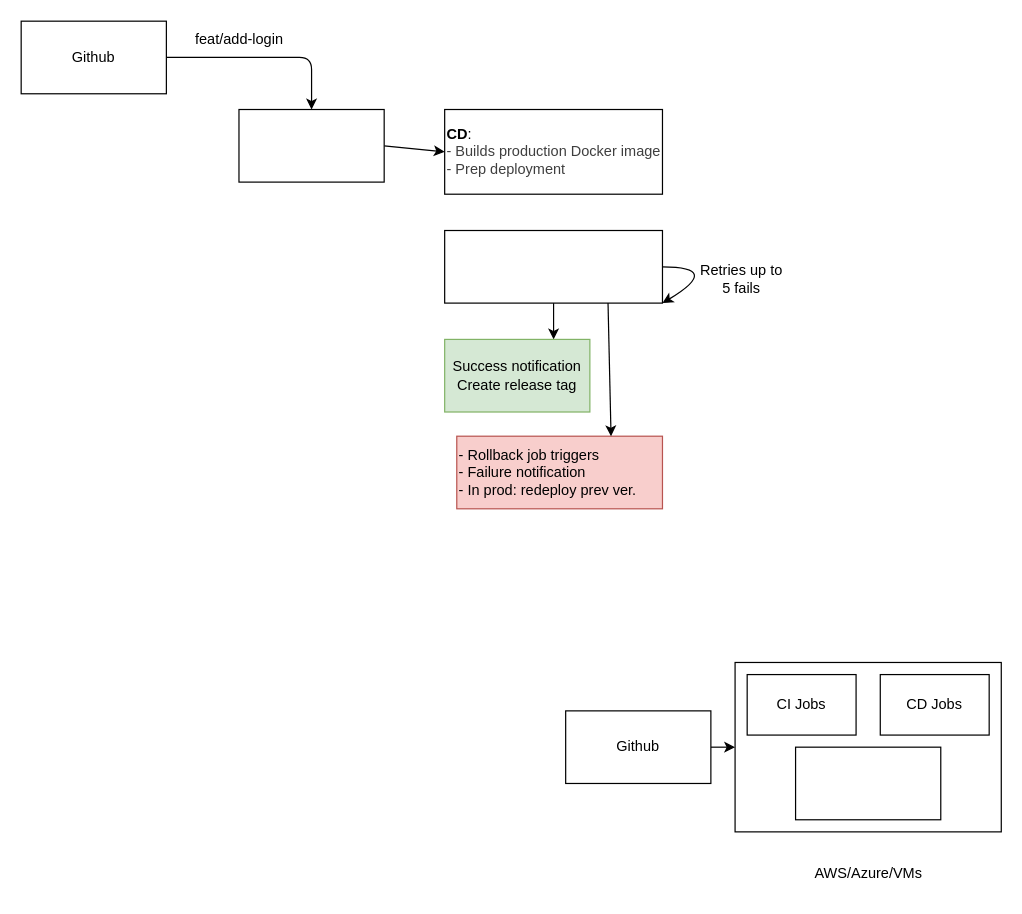
Image size: 1022x914. Some labels were removed from this diagram. The centre of each missing label's shape, as x and y in pixels:
CI : Validates: TS, tests. Docker build: point 311,145
Docker Container interview-webapp port: 3000: point 867,783
Health verification Verify GET / = Hello World Verify GET /heath = 200 OK: point 552,266
